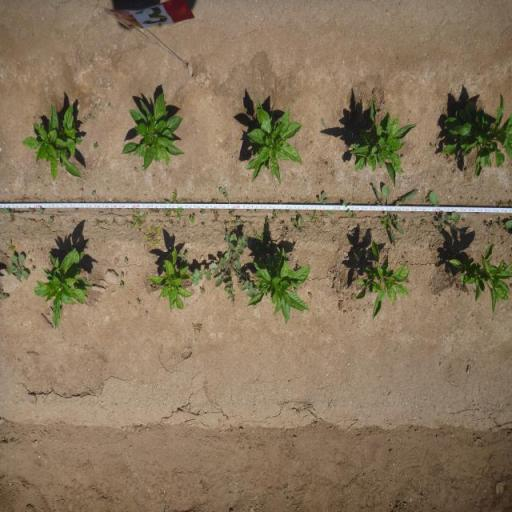plant: (437, 89, 512, 179), (346, 94, 418, 185), (118, 83, 192, 171), (242, 94, 306, 186), (22, 101, 84, 183), (446, 242, 512, 316), (34, 246, 92, 330), (354, 241, 412, 324), (255, 247, 313, 324), (147, 247, 192, 313)
weed: (191, 229, 255, 298), (370, 184, 418, 242), (428, 190, 465, 234), (162, 187, 186, 222), (6, 253, 29, 281), (142, 223, 163, 250), (252, 228, 274, 253), (128, 207, 148, 229), (207, 198, 221, 223), (339, 202, 357, 219), (176, 249, 190, 269), (226, 198, 240, 216), (0, 208, 17, 222), (488, 216, 505, 230), (305, 210, 321, 224), (4, 239, 18, 253), (378, 214, 390, 230), (295, 215, 305, 233), (318, 191, 330, 205), (0, 287, 11, 301), (272, 209, 284, 221), (218, 186, 228, 198), (231, 216, 243, 226), (148, 282, 158, 292), (147, 208, 161, 214), (189, 214, 196, 226), (220, 219, 230, 227), (198, 208, 208, 215), (496, 200, 506, 207), (320, 117, 327, 127), (199, 285, 206, 294), (38, 206, 44, 216), (118, 281, 125, 289), (87, 114, 95, 120), (93, 142, 99, 150), (28, 207, 36, 213), (48, 216, 54, 224), (120, 270, 126, 278), (264, 216, 270, 224), (329, 169, 335, 177), (290, 218, 296, 225), (294, 209, 301, 215), (482, 219, 488, 226), (124, 255, 128, 265), (283, 209, 291, 214), (507, 199, 512, 207), (91, 190, 97, 196), (278, 199, 284, 205), (420, 218, 426, 224), (405, 278, 411, 284), (137, 298, 141, 306), (74, 207, 79, 213), (31, 266, 36, 272), (246, 209, 252, 214), (141, 165, 145, 172), (254, 208, 258, 214), (290, 195, 294, 201), (320, 210, 324, 216), (107, 102, 111, 107), (201, 221, 205, 226), (29, 258, 32, 264)
